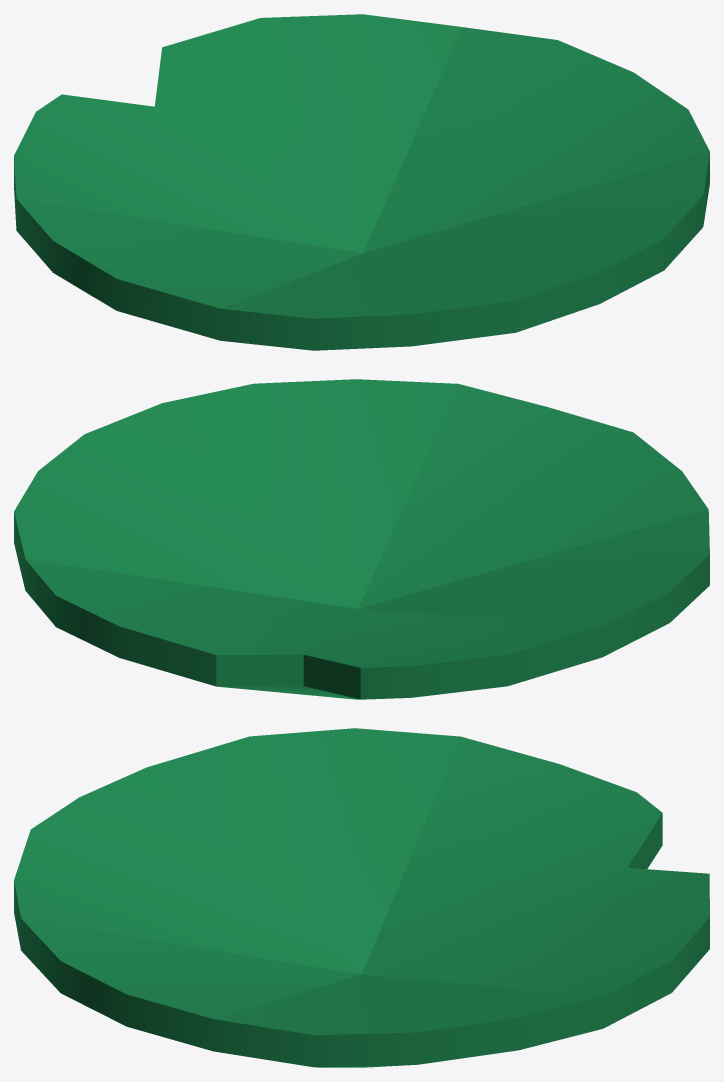
Rendered from plant_mushroom_leaf_B_chip_thick.fbx.
The picture shows the model from 3 angles, top to bottom: view 1: azimuth 30°, elevation 25°; view 2: azimuth 150°, elevation 25°; view 3: azimuth 270°, elevation 25°; orthographic projection. The views are drawn at different scales.
Visible parts, largest first — view 1: plant_mushroom_leaf_B_chip_thick; view 2: plant_mushroom_leaf_B_chip_thick; view 3: plant_mushroom_leaf_B_chip_thick.
Boxes of the visible parts, x1,y1,x2,y2 form: plant_mushroom_leaf_B_chip_thick: [14, 14, 709, 350]; plant_mushroom_leaf_B_chip_thick: [14, 379, 709, 699]; plant_mushroom_leaf_B_chip_thick: [14, 728, 709, 1067].
Bounding box in the file's own units: 29.91 × 8.55 × 29.1.
